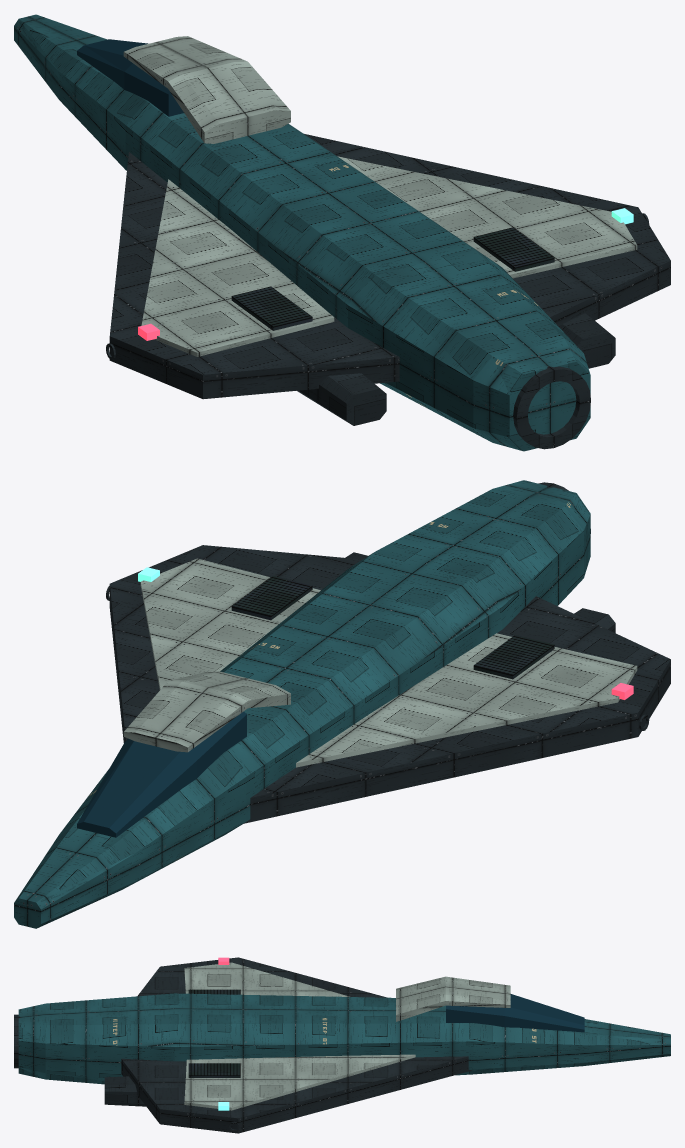
The model's file is ship_swift.glb.
The picture shows the model from 3 angles, top to bottom: view 1: azimuth 30°, elevation 25°; view 2: azimuth 150°, elevation 25°; view 3: azimuth 270°, elevation 25°; orthographic projection. The views are drawn at different scales.
Visible parts, largest first — view 1: Teal, Frame, Cream, Thermal, Glass; view 2: Teal, Cream, Frame, Glass, Thermal; view 3: Teal, Frame, Cream, Glass, Thermal.
Part boxes in pixels (<box>): Teal: <box>14,14,590,451</box>; Frame: <box>106,134,670,449</box>; Cream: <box>123,36,637,356</box>; Thermal: <box>231,227,554,330</box>; Glass: <box>77,39,183,116</box>; Teal: <box>14,480,590,928</box>; Cream: <box>123,558,637,767</box>; Frame: <box>106,482,670,823</box>; Glass: <box>77,711,246,837</box>; Thermal: <box>231,576,554,679</box>; Teal: <box>18,993,670,1084</box>; Frame: <box>14,957,472,1133</box>; Cream: <box>184,962,510,1110</box>; Glass: <box>446,994,584,1032</box>; Thermal: <box>188,989,240,1077</box>.
Size of the model in its own units: 11.5 by 2.9 by 19.59.
Materials: 8 (6 with a texture image).
